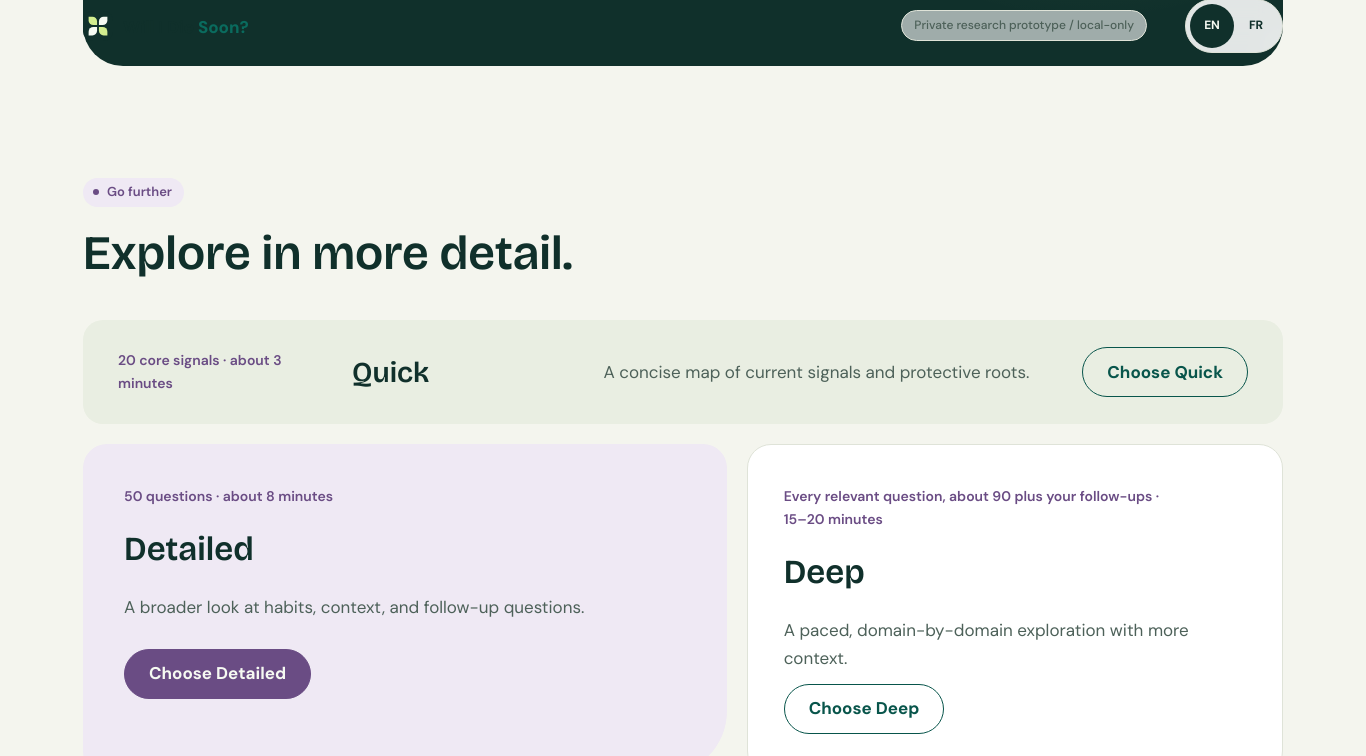
Scenario: keeps the adolescent private route selected when consent changes to French
(page scrolled)
Click the button "Choose Quick" at (1165, 372), box [1082,347,1248,397]
(page scrolled)
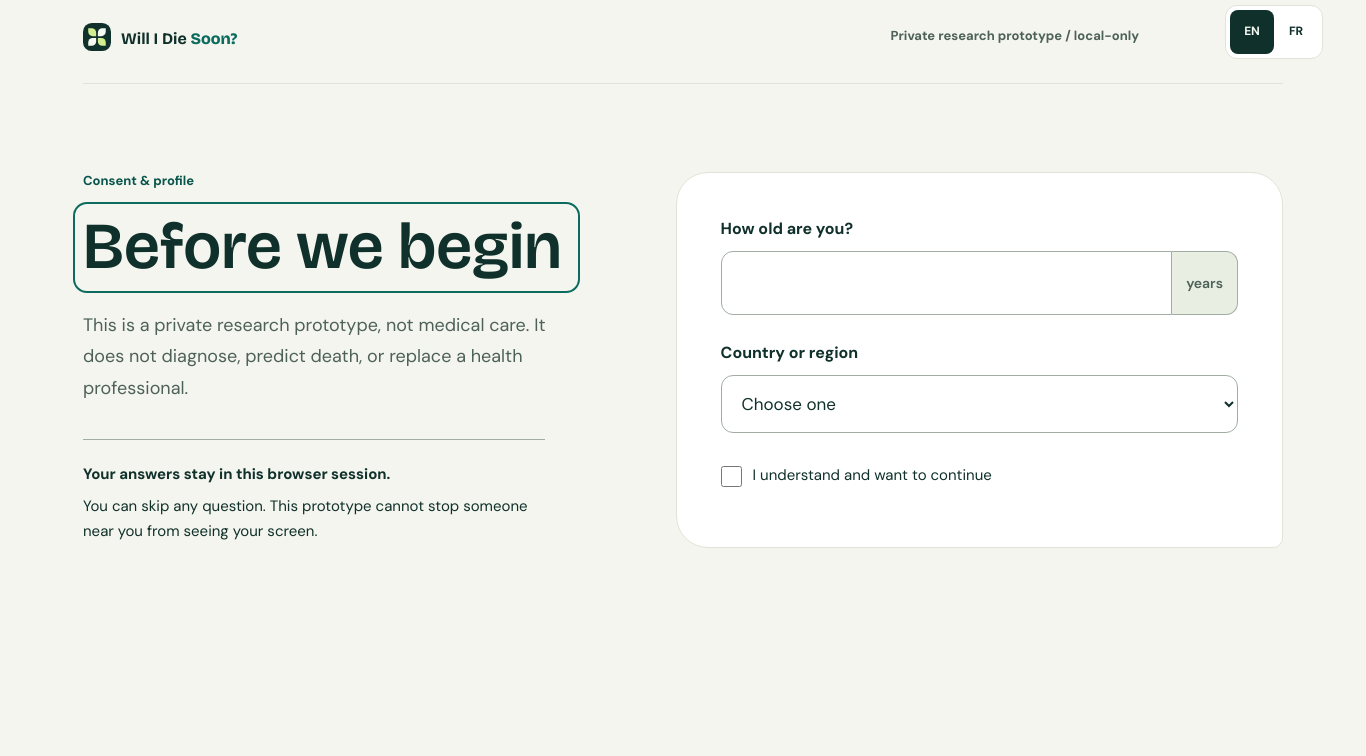
Type "15" into the number field labelled "How old are you?" at (946, 283), box [721,251,1172,315]
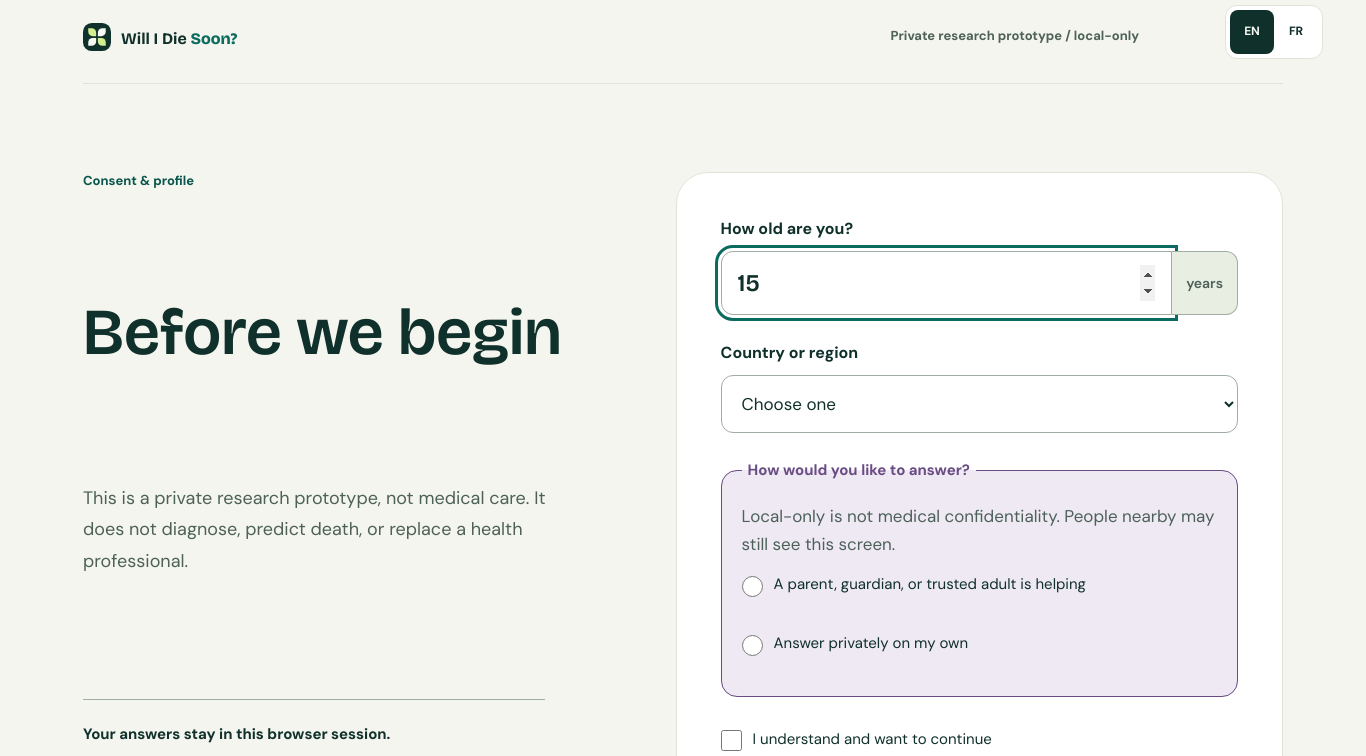
Select "United Kingdom" in the dropdown labelled "Country or region" at (979, 404), box [721,375,1238,433]
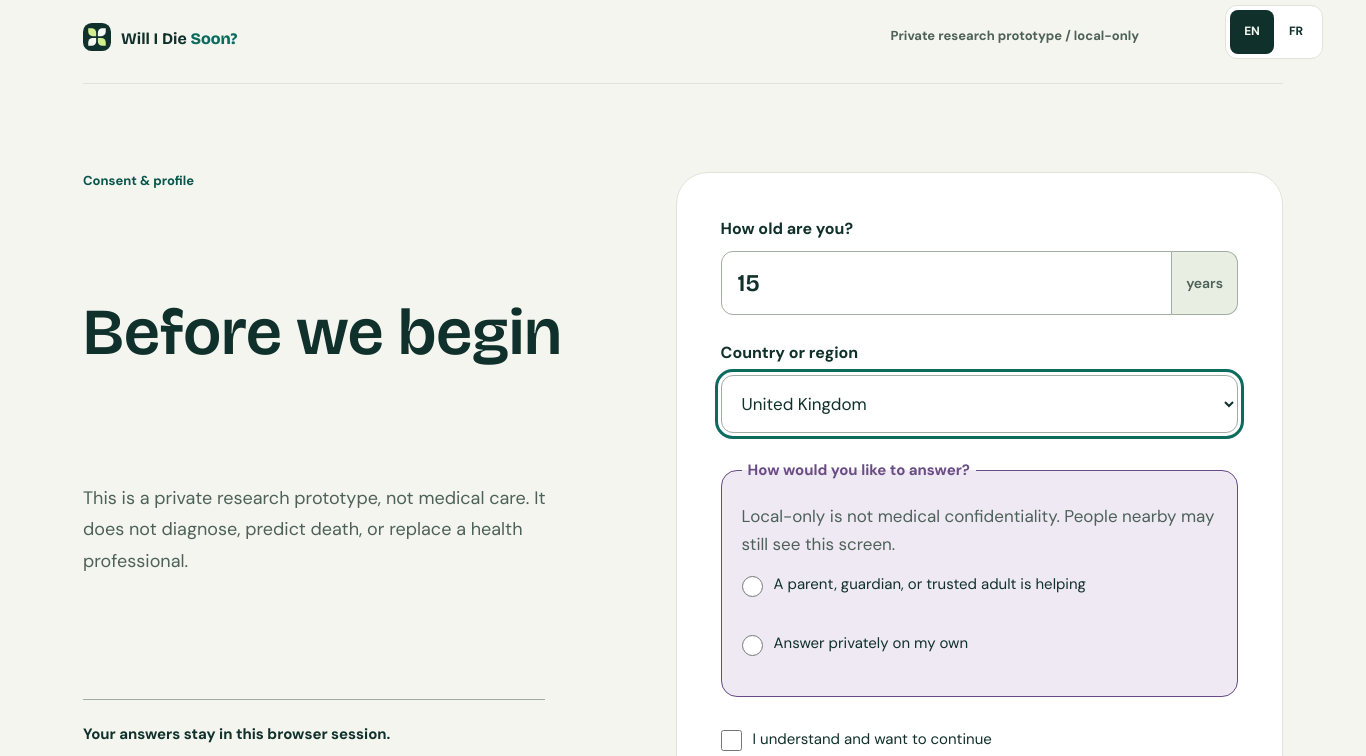
Click the radio button labelled "Answer privately on my own" at (752, 645), box [742,635,763,656]
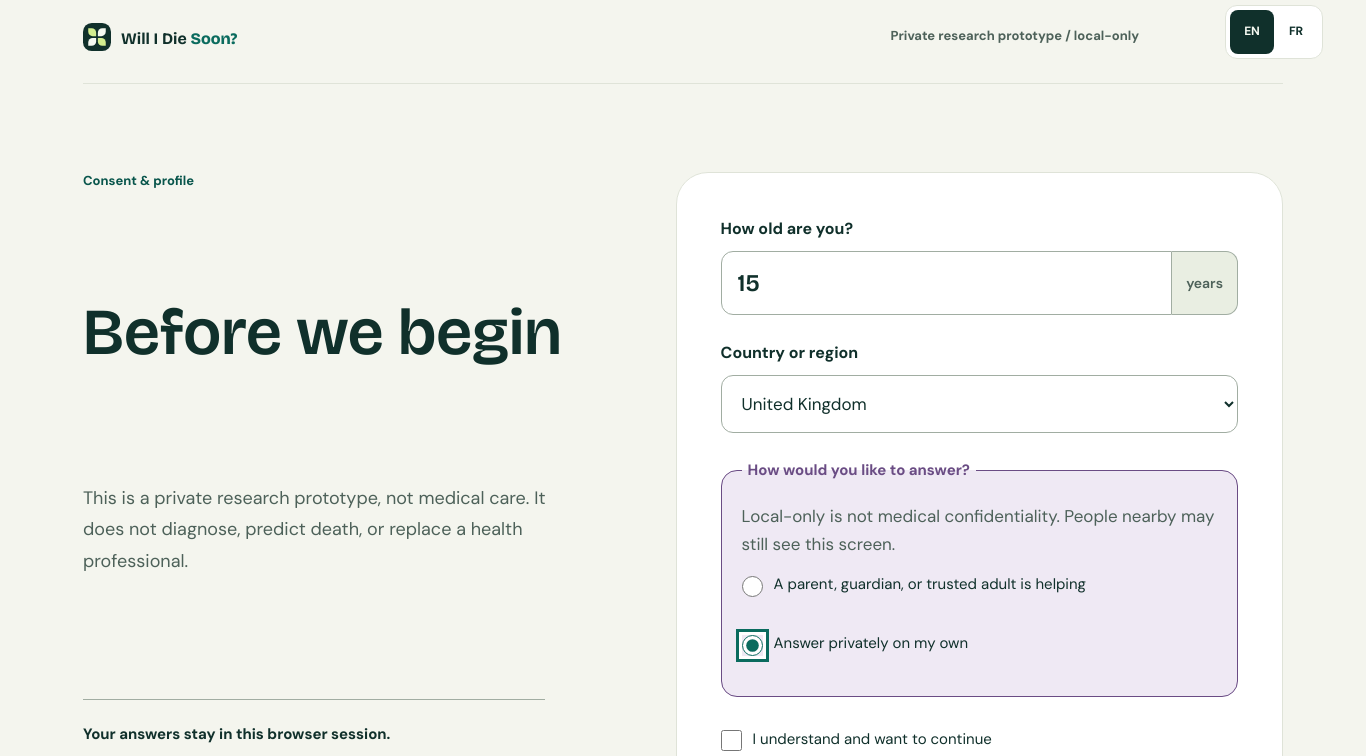
Click the checkbox labelled "I understand and want to continue" at (731, 740), box [721,730,742,751]
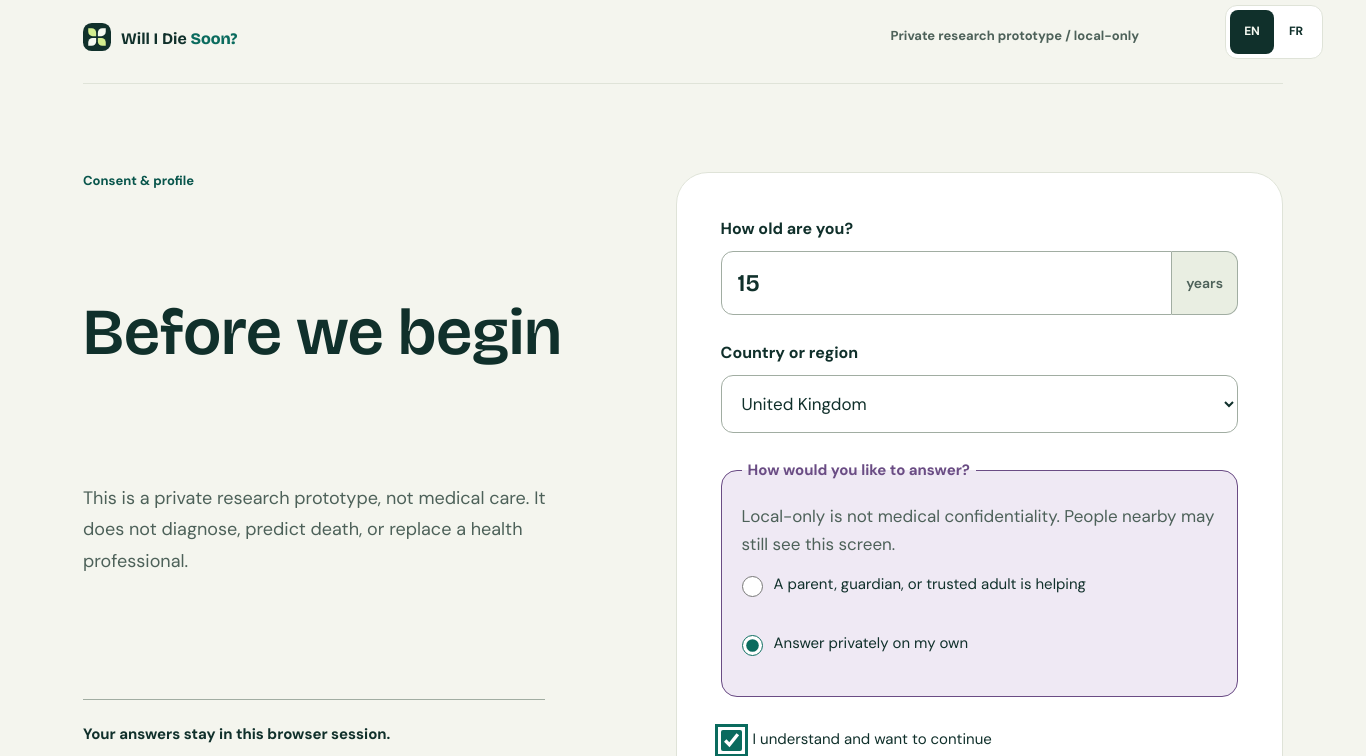
Click the button with aria-label "Français" at (1296, 32), box [1274,10,1318,54]
(page scrolled)
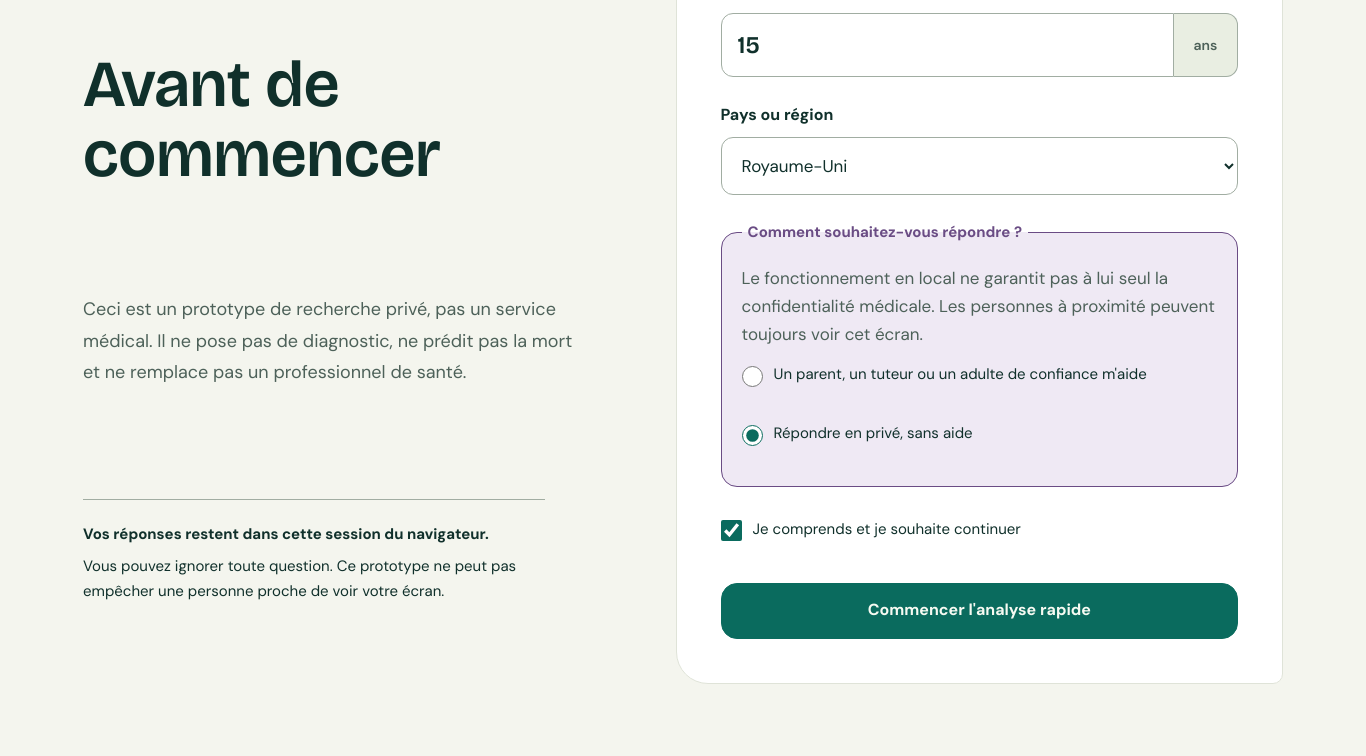
Result: the radio button labelled "Répondre en privé, sans aide" is checked at [742,425,763,446]
Result: the button "Commencer l'analyse rapide" is enabled at [721,583,1238,639]
Result: the text "Le fonctionnement en local ne garantit pas à lui seul la confidentialité médicale. Les personnes à proximité peuvent tou" is shown at [742,266,1215,345]
